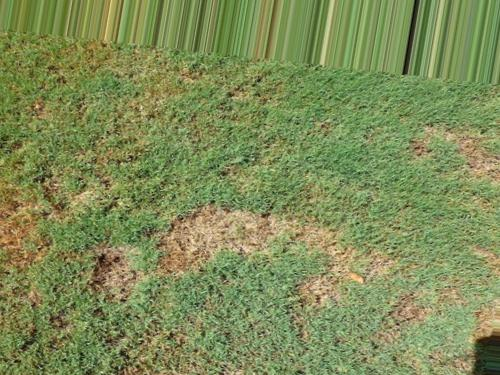patch: (214, 211, 258, 249), (183, 228, 211, 250), (107, 262, 126, 289), (475, 144, 499, 162), (259, 221, 286, 235)
